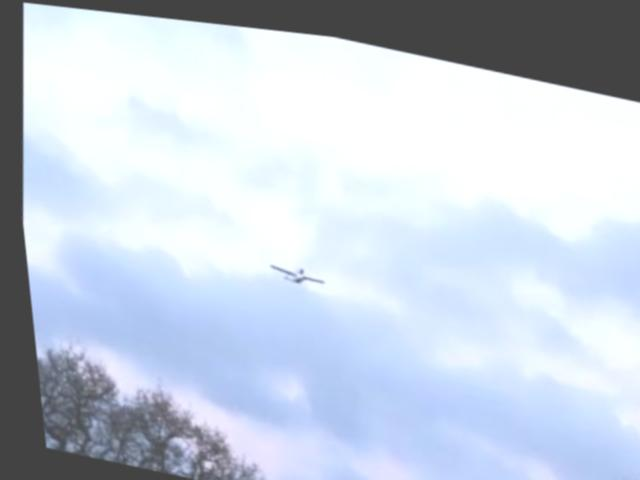uav: (258, 249, 326, 287)
